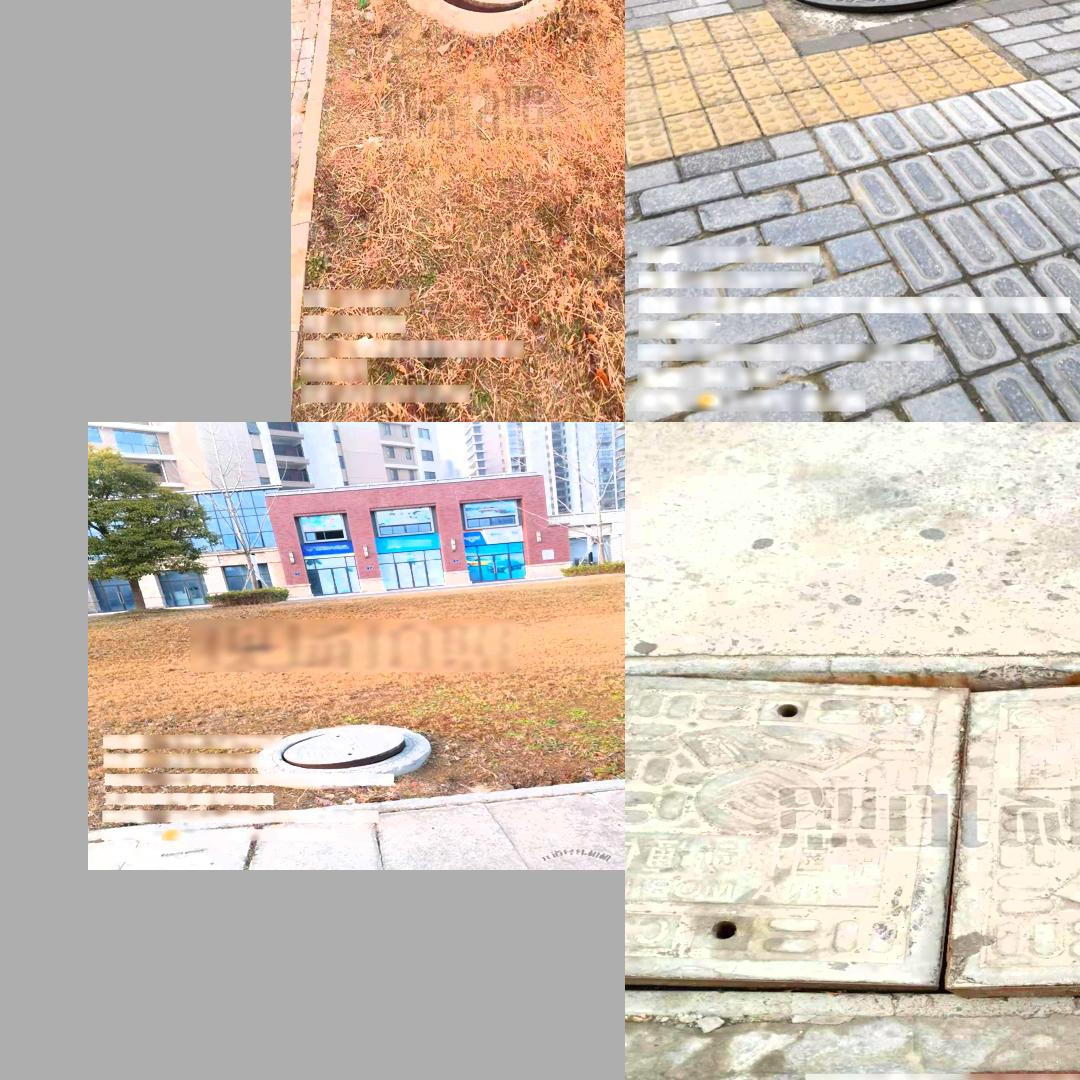uncovered: (625, 646, 1080, 1015), (271, 726, 413, 774), (777, 0, 999, 13), (424, 0, 547, 17)
